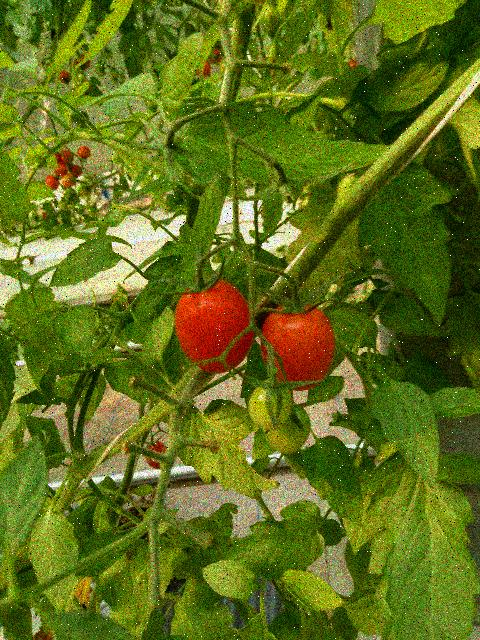l_fully_ripened: (175, 279, 254, 374), (259, 305, 335, 391)
l_green: (262, 403, 311, 454), (247, 378, 291, 432)
